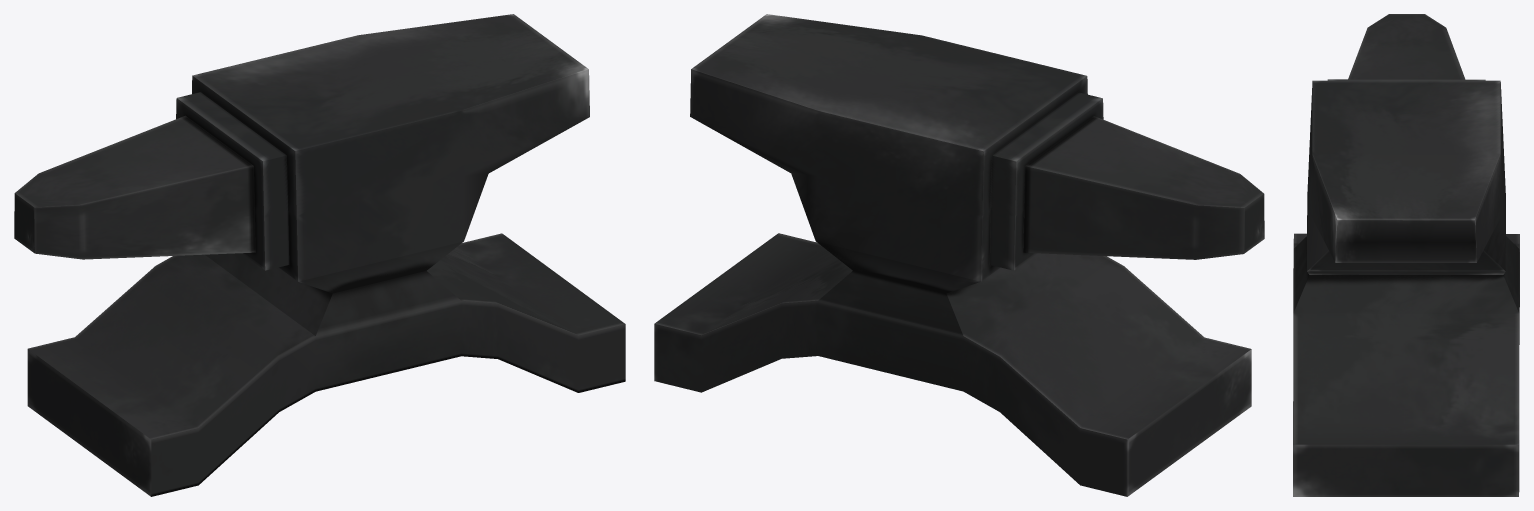
The model's file is SM_anvil.fbx.
The picture shows the model from 3 angles, left to right: view 1: azimuth 30°, elevation 25°; view 2: azimuth 150°, elevation 25°; view 3: azimuth 270°, elevation 25°; orthographic projection. The views are drawn at different scales.
Parts seen in each view (by area): view 1: SM_anvil; view 2: SM_anvil; view 3: SM_anvil.
Boxes of the visible parts, bbox=[...] form: SM_anvil: bbox=[14, 14, 625, 496]; SM_anvil: bbox=[654, 14, 1264, 496]; SM_anvil: bbox=[1293, 14, 1519, 496].
Bounding box in the file's own units: 2.24 × 1.19 × 0.896.
